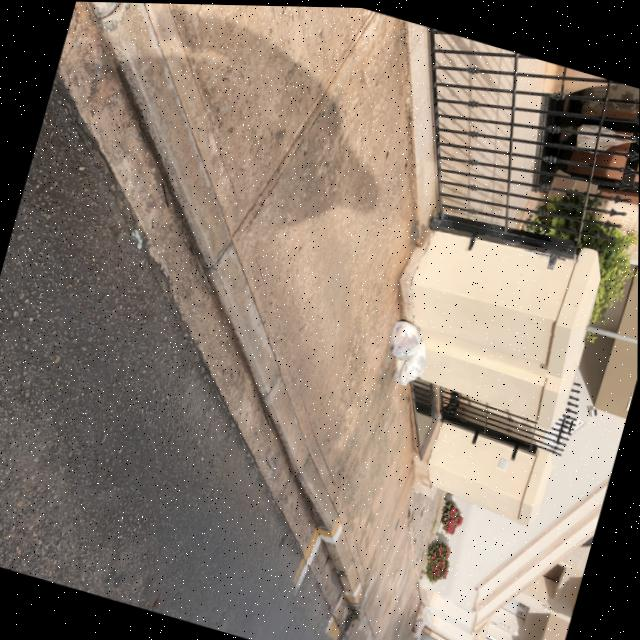Organic Waste -White Bag-: (398, 336, 432, 389), (386, 317, 425, 363), (415, 600, 443, 629), (390, 352, 406, 382), (409, 616, 426, 640)
